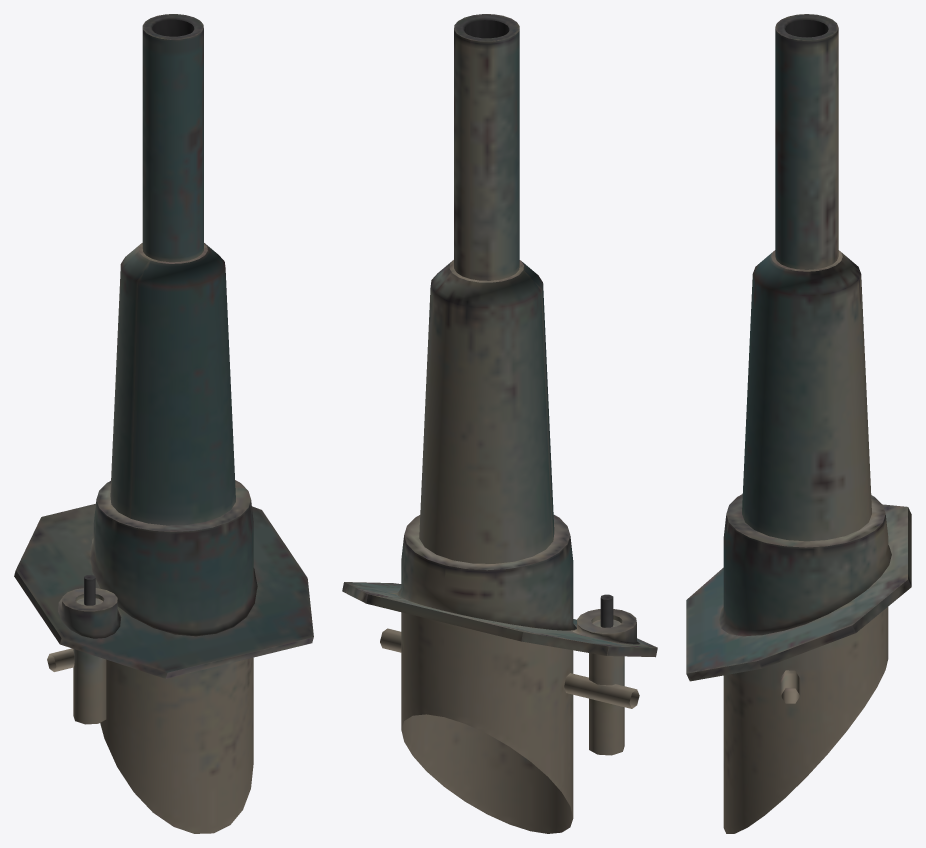
Rendered from Gun_01.glb.
3 renders of one model, left to right at view 1: azimuth 30°, elevation 25°; view 2: azimuth 150°, elevation 25°; view 3: azimuth 270°, elevation 25°, orthographic. The views are drawn at different scales.
Visible parts, largest first — view 1: set_0_group_0; view 2: set_0_group_0; view 3: set_0_group_0.
Part boxes in pixels (x1,y1,x2,y2): set_0_group_0: (14,14,313,833); set_0_group_0: (342,14,657,833); set_0_group_0: (686,14,911,833).
Bounding box in the file's own units: 0.5045 × 1.52 × 0.3884.
Materials: 1 (1 with a texture image).
